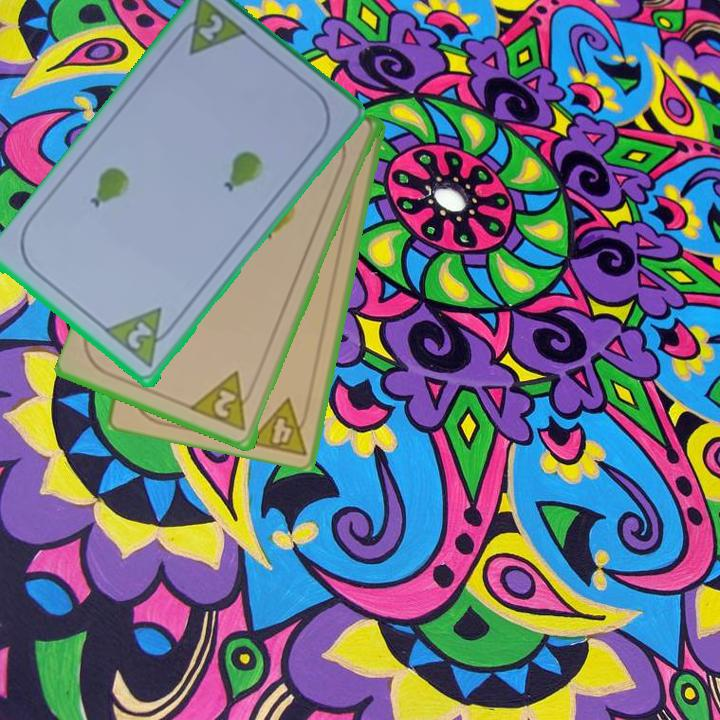2p: (189, 368, 258, 435), (123, 318, 155, 353), (195, 10, 227, 45)
4p: (244, 394, 314, 458)
